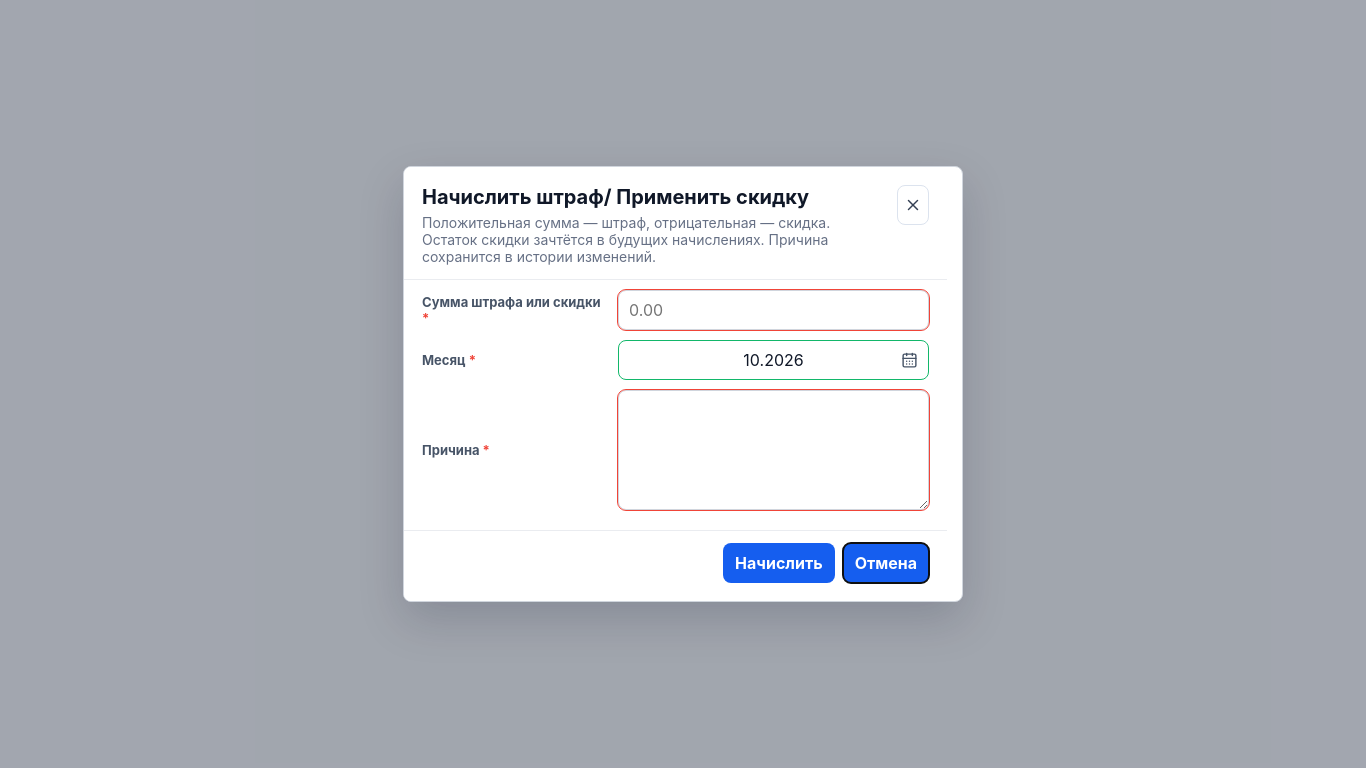
Test case: rejects zero and preserves the signed draft on an API error
Step 1. Type "0" into the field labelled "Сумма штрафа или скидки" → (774, 310), box [618,290,929,330]
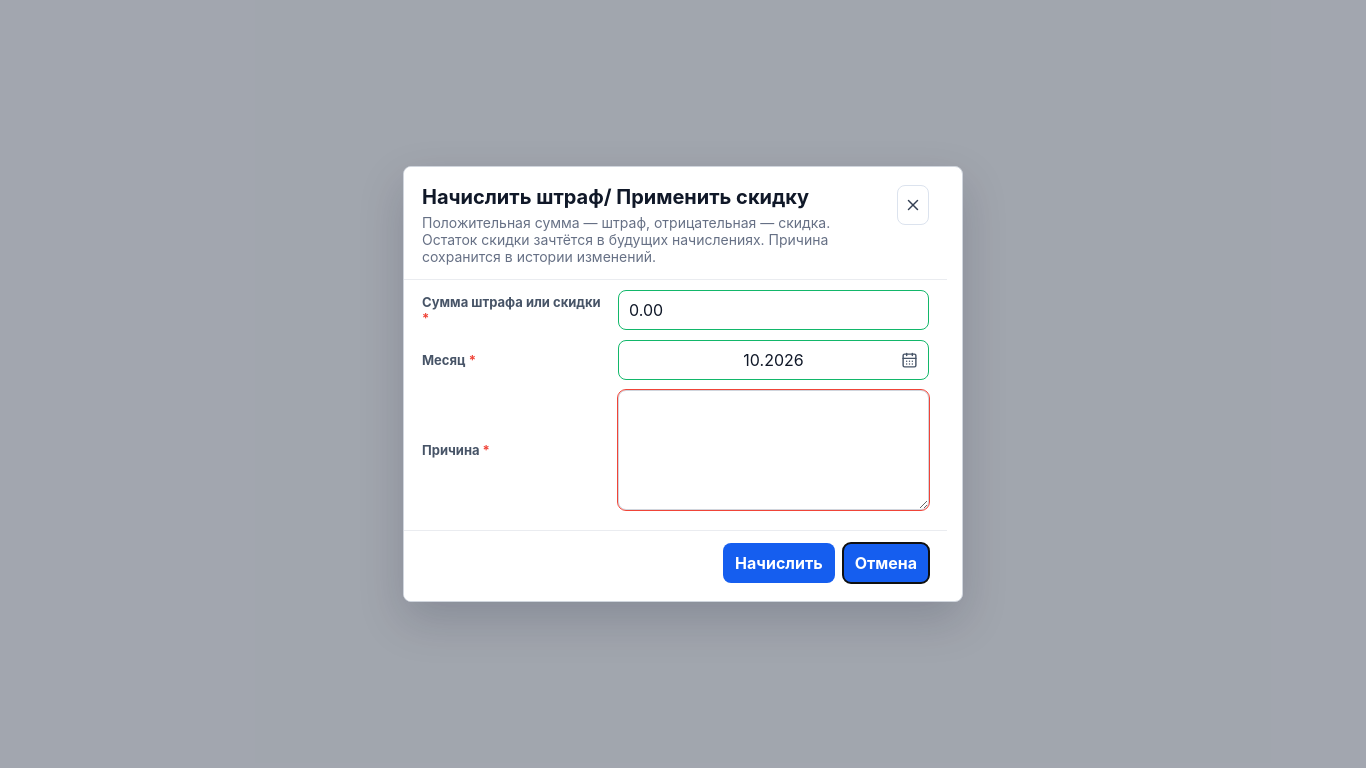
Step 2. Click the button "Начислить" → (779, 563), box [723,543,835,583]
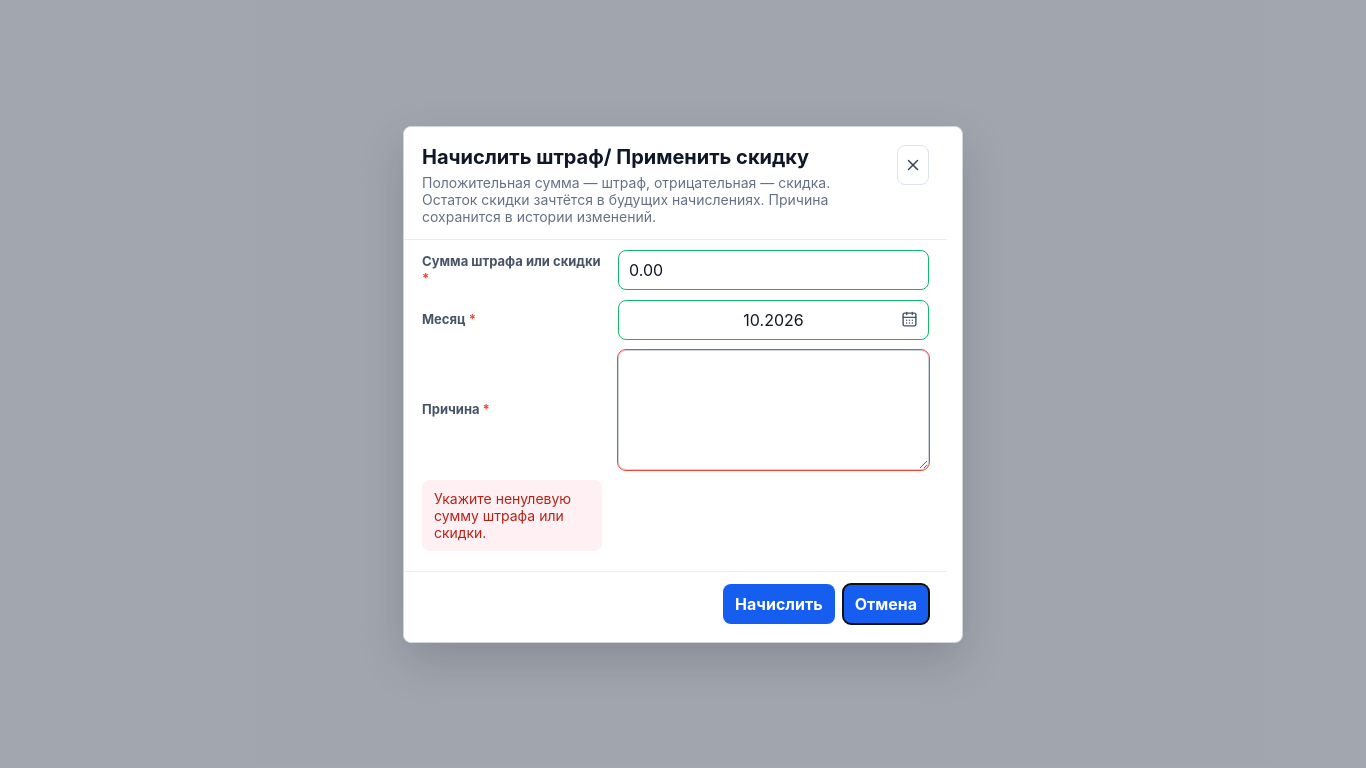
Result: the message shows "ненулевую сумму" at [434,490,571,540]
Step 3. Type "-50" into the field labelled "Сумма штрафа или скидки" → (774, 270), box [618,250,929,290]
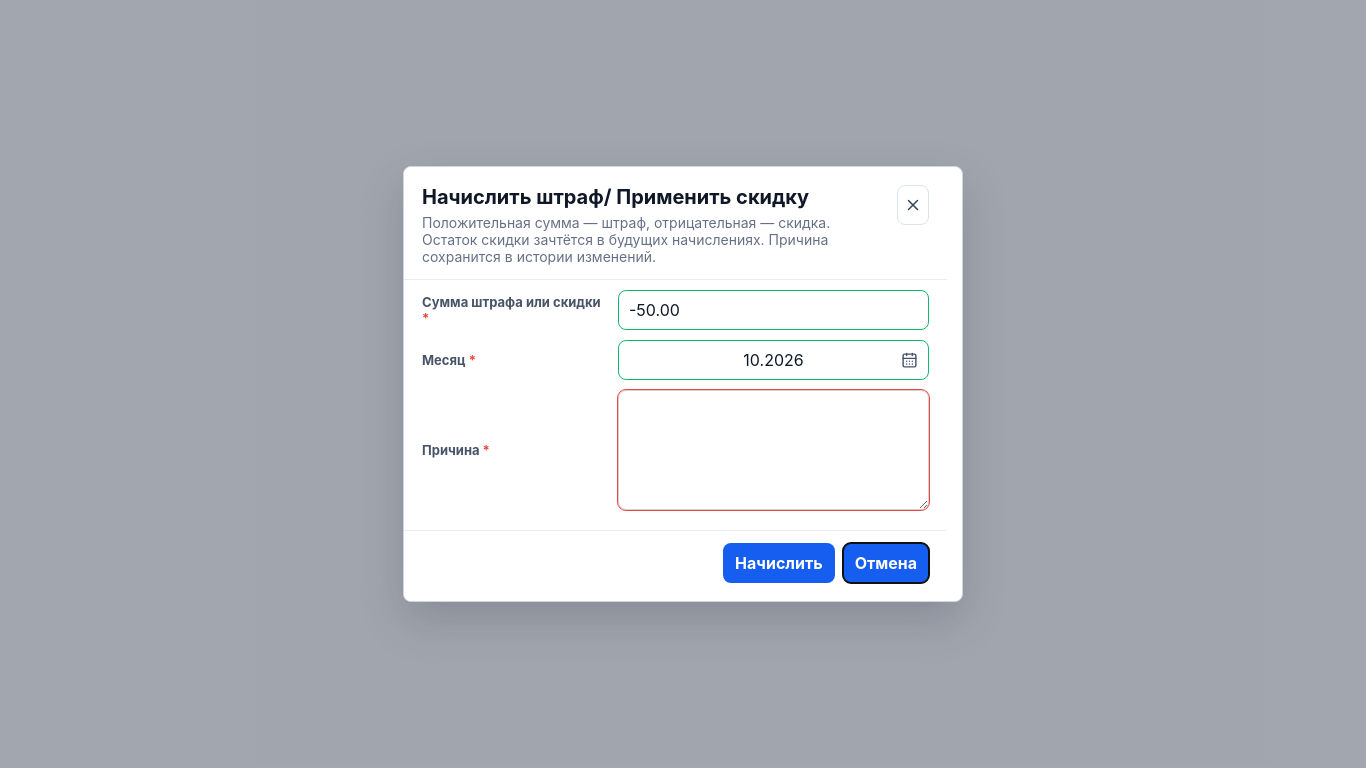
Step 4. Type "Скидка" into the text box named "Причина начисления штрафа" → (774, 450), box [618,390,929,510]
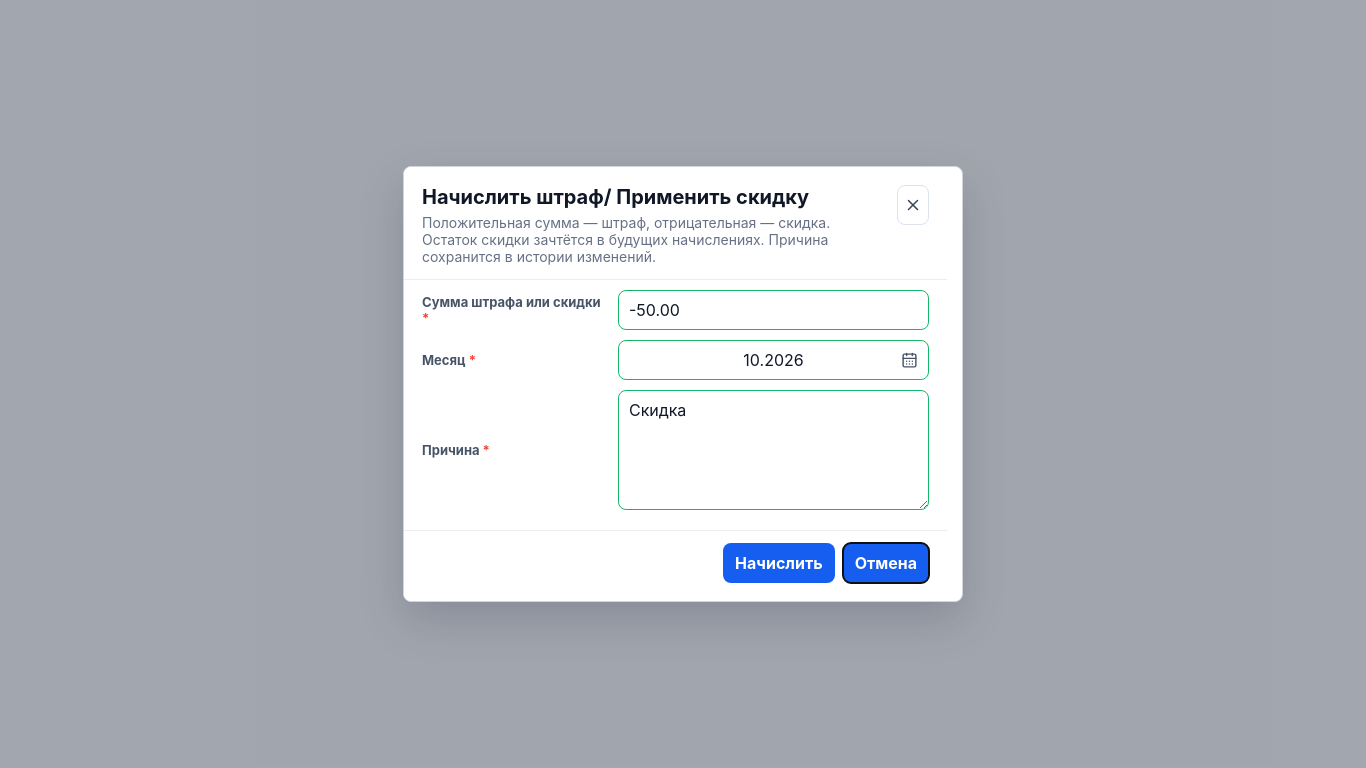
Step 5. Click the button "Начислить" → (779, 563), box [723,543,835,583]
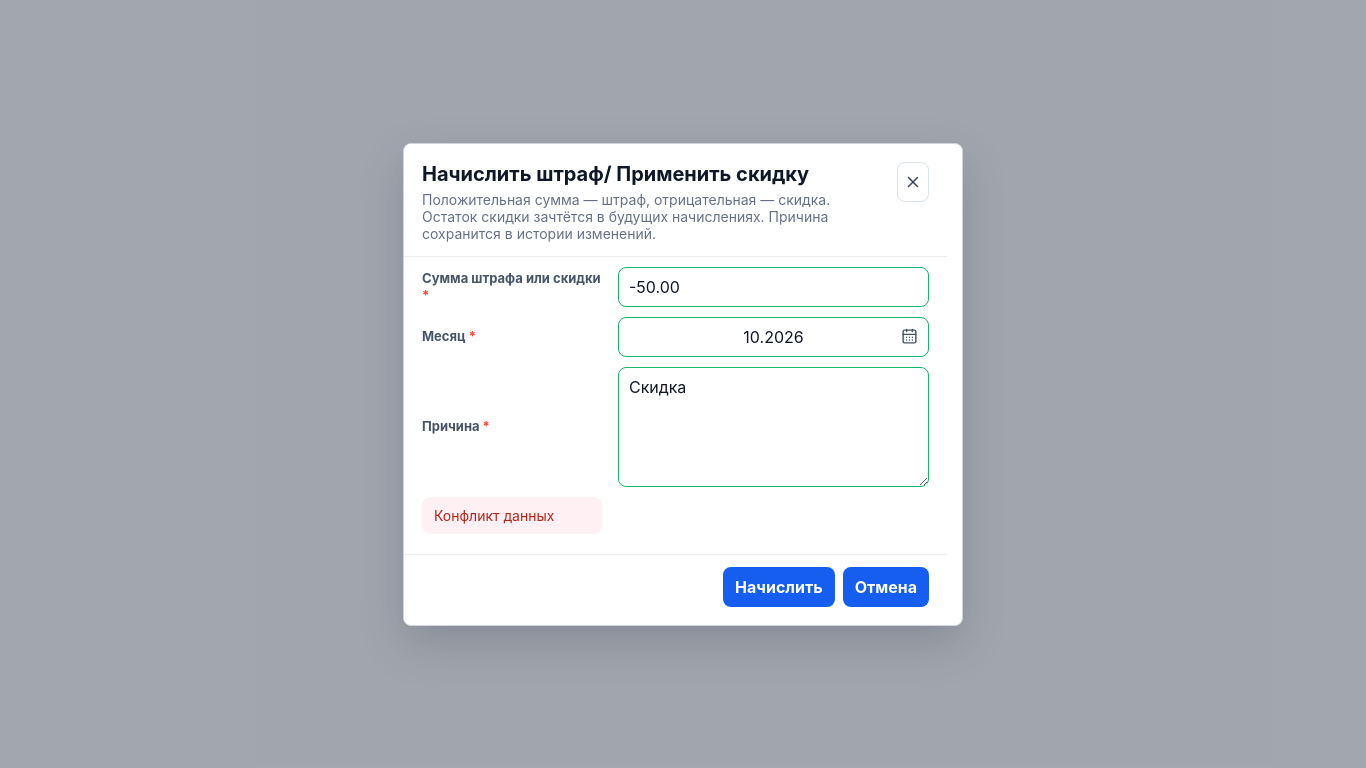
Result: the field labelled "Сумма штрафа или скидки" holds "-50.00" at [618,266,929,306]
Result: the message reads "Конфликт данных" at [434,506,554,524]
